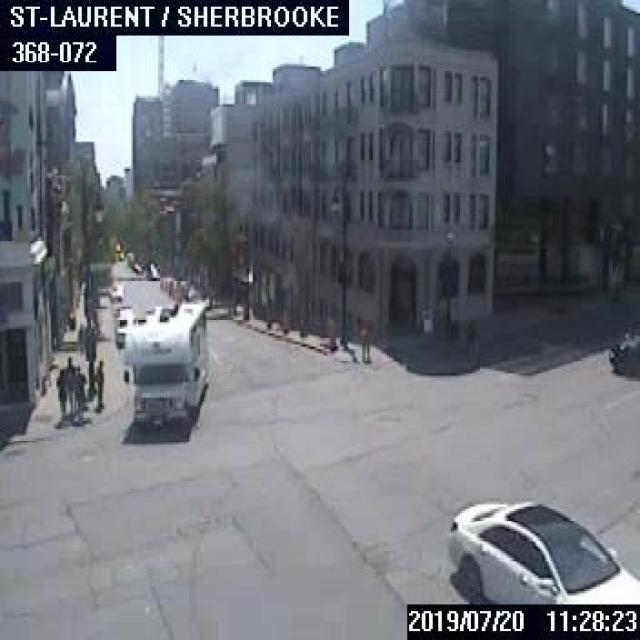construction: (324, 313, 338, 349)
pedestrian: (70, 363, 84, 425), (90, 356, 103, 409), (54, 368, 64, 418), (64, 355, 72, 412), (358, 322, 369, 362)
vehicle: (446, 498, 638, 602), (124, 296, 207, 424), (606, 324, 638, 378), (113, 305, 136, 345), (109, 280, 121, 300)
